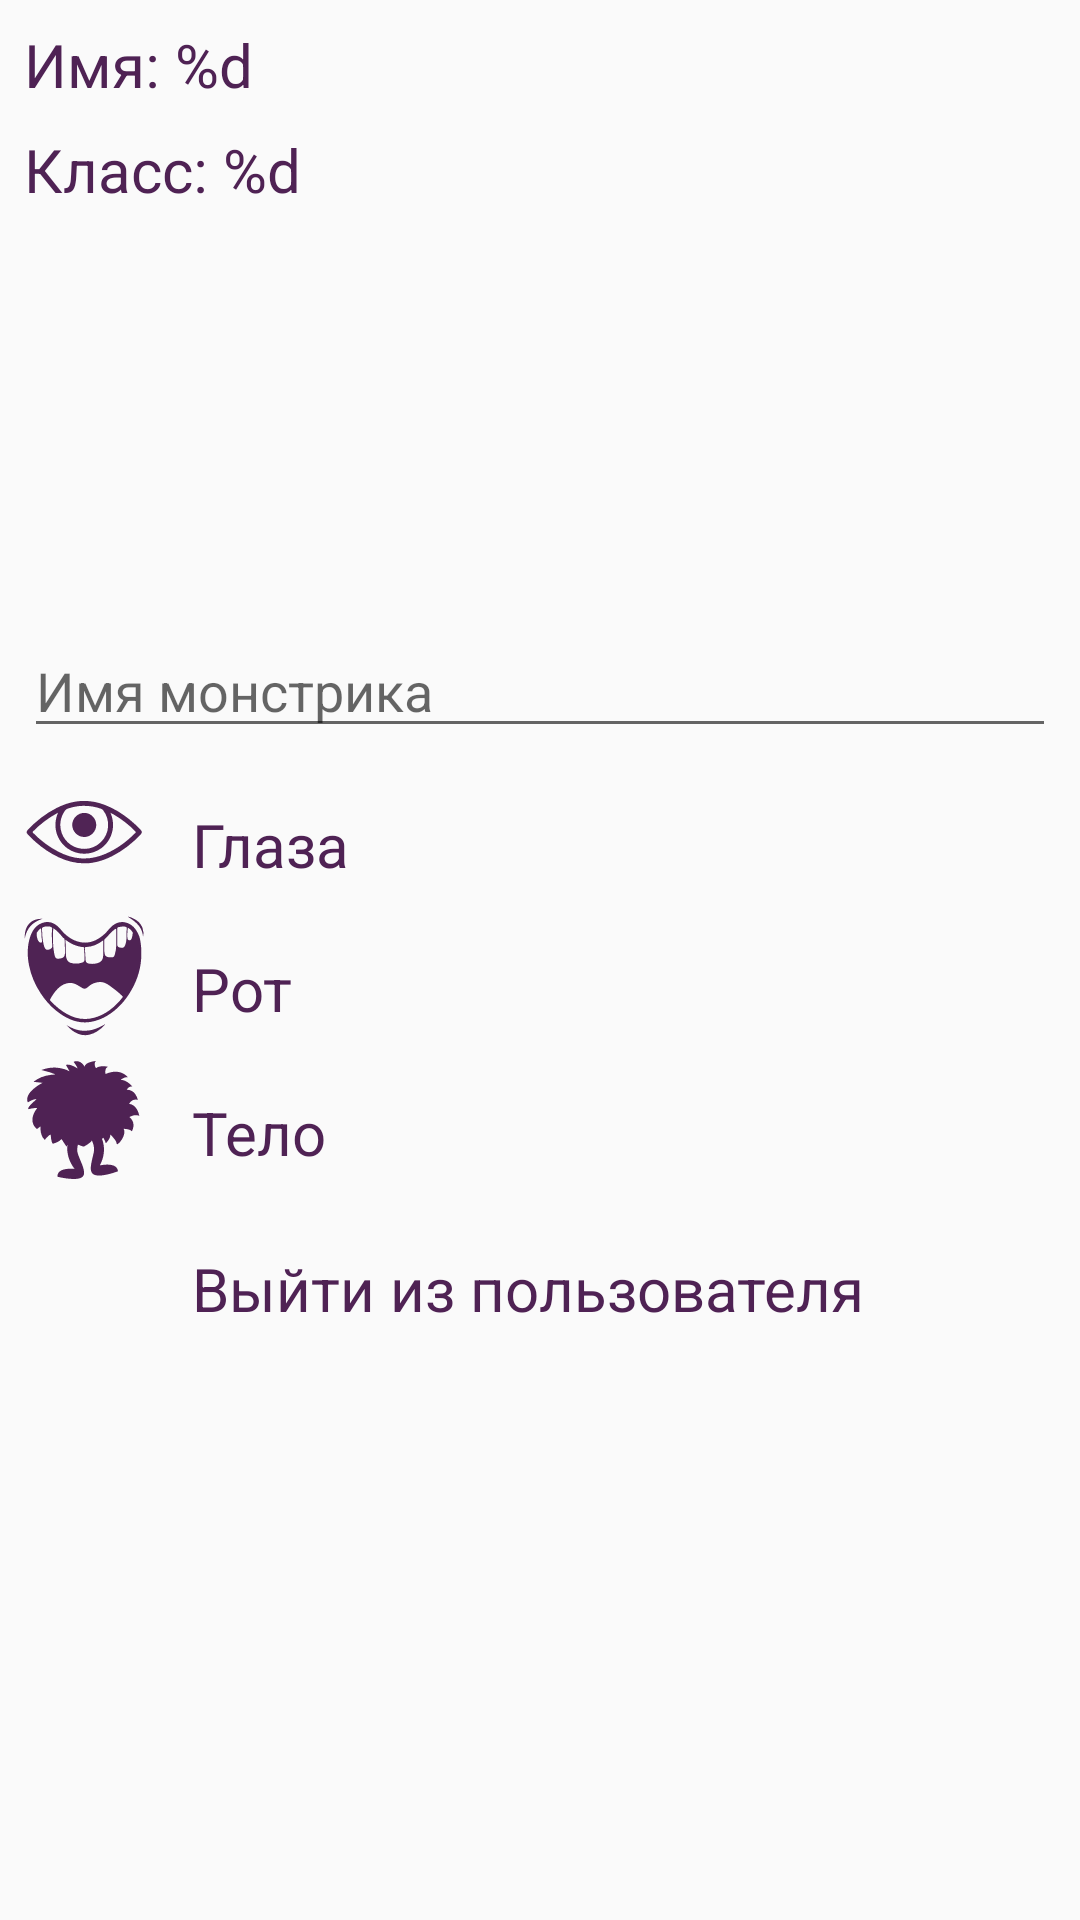

Icon bounding boxes for this 1080px×1920px phone screenshot, format (x1, y1, x2, y2):
body: (27, 1061, 140, 1179)
eye: (26, 801, 142, 864)
mouth: (24, 916, 144, 1036)
